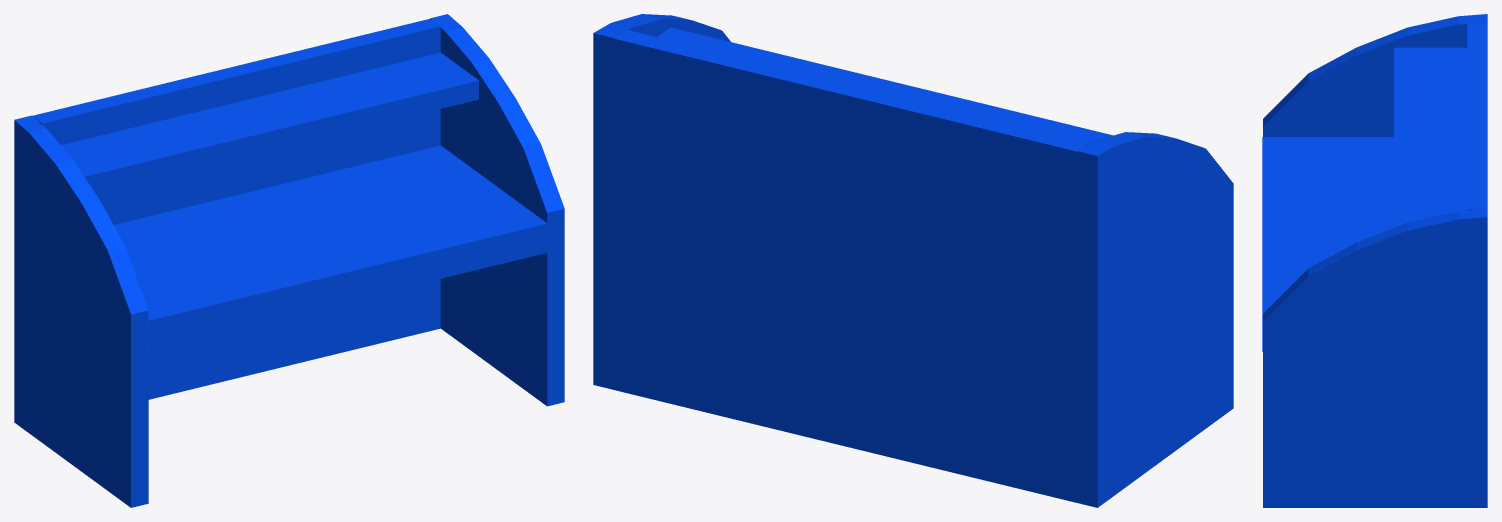
File: study_table_6_meshCollider.fbx
The picture shows the model from 3 angles, left to right: view 1: azimuth 30°, elevation 25°; view 2: azimuth 150°, elevation 25°; view 3: azimuth 270°, elevation 25°; orthographic projection. The views are drawn at different scales.
Visible parts, largest first — view 1: study_table_6_meshCollider; view 2: study_table_6_meshCollider; view 3: study_table_6_meshCollider.
Part boxes in pixels (bbox=[...]): study_table_6_meshCollider: bbox=[14, 14, 564, 507]; study_table_6_meshCollider: bbox=[593, 14, 1233, 507]; study_table_6_meshCollider: bbox=[1262, 14, 1487, 507].
Size of the model in its own units: 109 by 72.53 by 50.95.
